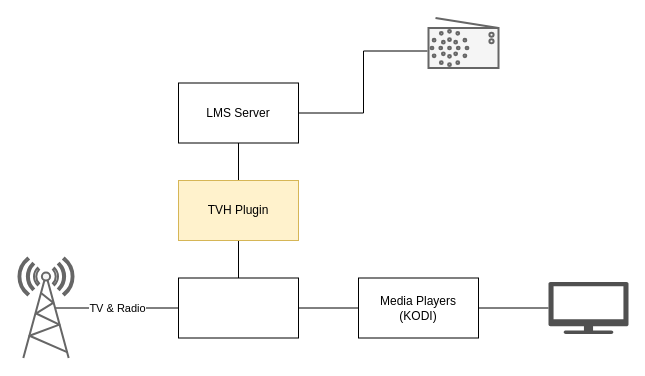
The diagram is 645 pixels wide and 376 high, and some of its shapes have lost their labels. Each missing label, with the centre of its shape:
SqueezeBoxes: pixel 463 42
TV Headend Server: pixel 238 307
